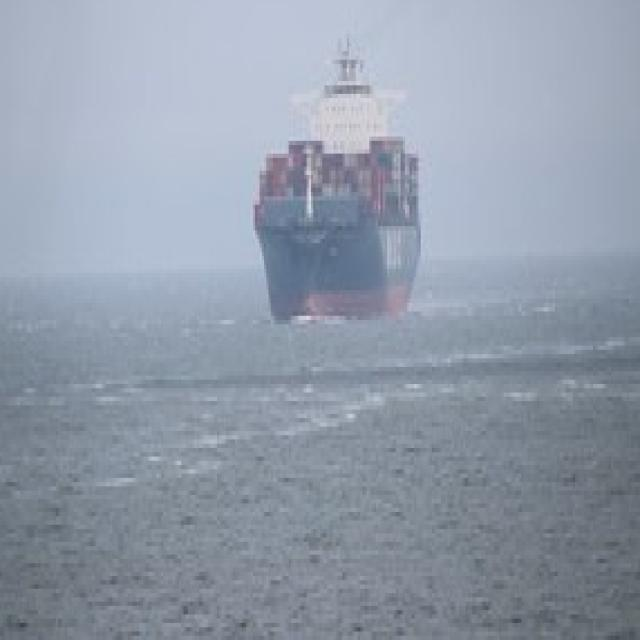cargoship: (243, 39, 419, 316)
